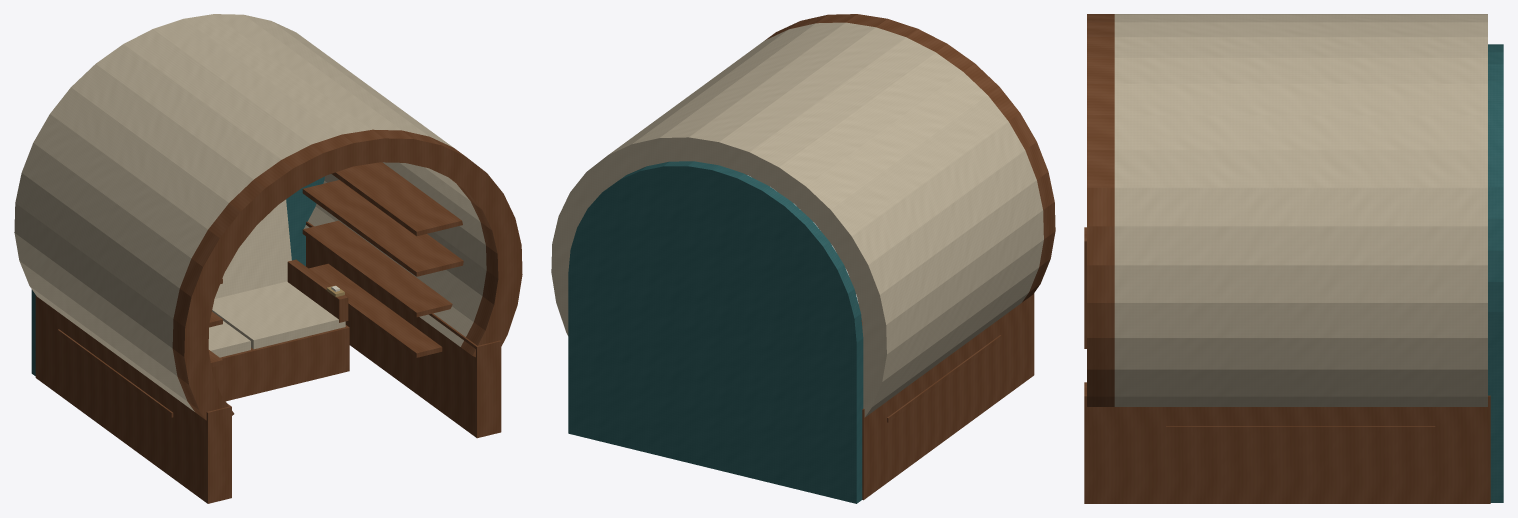
The model's file is AST-RES-004.glb.
3 views of the same model, side by side, from view 1: azimuth 30°, elevation 25°; view 2: azimuth 150°, elevation 25°; view 3: azimuth 270°, elevation 25° (orthographic). The views are drawn at different scales.
Visible parts, largest first — view 1: QUIET_ContinuousBearing_-1, QUIET_ContinuousBearing_1, QUIET_Vault_7, QUIET_Vault_8, QUIET_Vault_6, QUIET_Vault_9, QUIET_Vault_5, QUIET_SeatBase, QUIET_Vault_10, QUIET_Vault_4, QUIET_BookShelf_1_2, QUIET_SeatCushion_1 (+46 smaller); view 2: QUIET_Back, QUIET_ContinuousBearing_-1, QUIET_Vault_7, QUIET_Vault_8, QUIET_Vault_6, QUIET_Vault_9, QUIET_Vault_5, QUIET_Vault_10, QUIET_Vault_4, QUIET_Vault_11, QUIET_Vault_3, QUIET_Vault_12 (+11 smaller); view 3: QUIET_ContinuousBearing_1, QUIET_Vault_18, QUIET_Vault_17, QUIET_Vault_16, QUIET_Vault_19, QUIET_Vault_15, QUIET_Vault_20, QUIET_Vault_21, QUIET_Vault_14, QUIET_Vault_22, QUIET_Vault_13, QUIET_Vault_12 (+16 smaller).
Boxes of the visible parts, left/top/right/bottom form: QUIET_ContinuousBearing_-1: left=35, top=295, right=231, bottom=503; QUIET_ContinuousBearing_1: left=306, top=221, right=501, bottom=438; QUIET_Vault_7: left=50, top=87, right=228, bottom=229; QUIET_Vault_8: left=71, top=64, right=253, bottom=202; QUIET_Vault_6: left=33, top=114, right=207, bottom=258; QUIET_Vault_9: left=96, top=44, right=280, bottom=179; QUIET_Vault_5: left=21, top=143, right=191, bottom=288; QUIET_SeatBase: left=211, top=325, right=349, bottom=401; QUIET_Vault_10: left=123, top=29, right=310, bottom=159; QUIET_Vault_4: left=15, top=173, right=179, bottom=318; QUIET_BookShelf_1_2: left=302, top=180, right=463, bottom=276; QUIET_SeatCushion_1: left=212, top=281, right=345, bottom=349; QUIET_Back: left=568, top=161, right=863, bottom=503; QUIET_ContinuousBearing_-1: left=862, top=293, right=1034, bottom=500; QUIET_Vault_7: left=815, top=95, right=1008, bottom=245; QUIET_Vault_8: left=794, top=72, right=987, bottom=222; QUIET_Vault_6: left=833, top=122, right=1024, bottom=270; QUIET_Vault_9: left=770, top=52, right=962, bottom=203; QUIET_Vault_5: left=847, top=150, right=1036, bottom=296; QUIET_Vault_10: left=745, top=37, right=935, bottom=186; QUIET_Vault_4: left=857, top=180, right=1042, bottom=324; QUIET_Vault_11: left=719, top=27, right=905, bottom=173; QUIET_Vault_3: left=862, top=210, right=1043, bottom=354; QUIET_Vault_12: left=689, top=22, right=875, bottom=165; QUIET_ContinuousBearing_1: left=1084, top=382, right=1490, bottom=503; QUIET_Vault_18: left=1114, top=226, right=1487, bottom=265; QUIET_Vault_17: left=1114, top=187, right=1487, bottom=226; QUIET_Vault_16: left=1114, top=150, right=1487, bottom=187; QUIET_Vault_19: left=1114, top=265, right=1487, bottom=302; QUIET_Vault_15: left=1114, top=115, right=1487, bottom=149; QUIET_Vault_20: left=1114, top=303, right=1487, bottom=337; QUIET_Vault_21: left=1114, top=338, right=1487, bottom=369; QUIET_Vault_14: left=1114, top=84, right=1487, bottom=115; QUIET_Vault_22: left=1114, top=369, right=1487, bottom=396; QUIET_Vault_13: left=1114, top=57, right=1487, bottom=83; QUIET_Vault_12: left=1114, top=37, right=1487, bottom=57.
Size of the model in its own units: 3.49 by 3.2 by 3.18.
7 materials, 6 textured.
